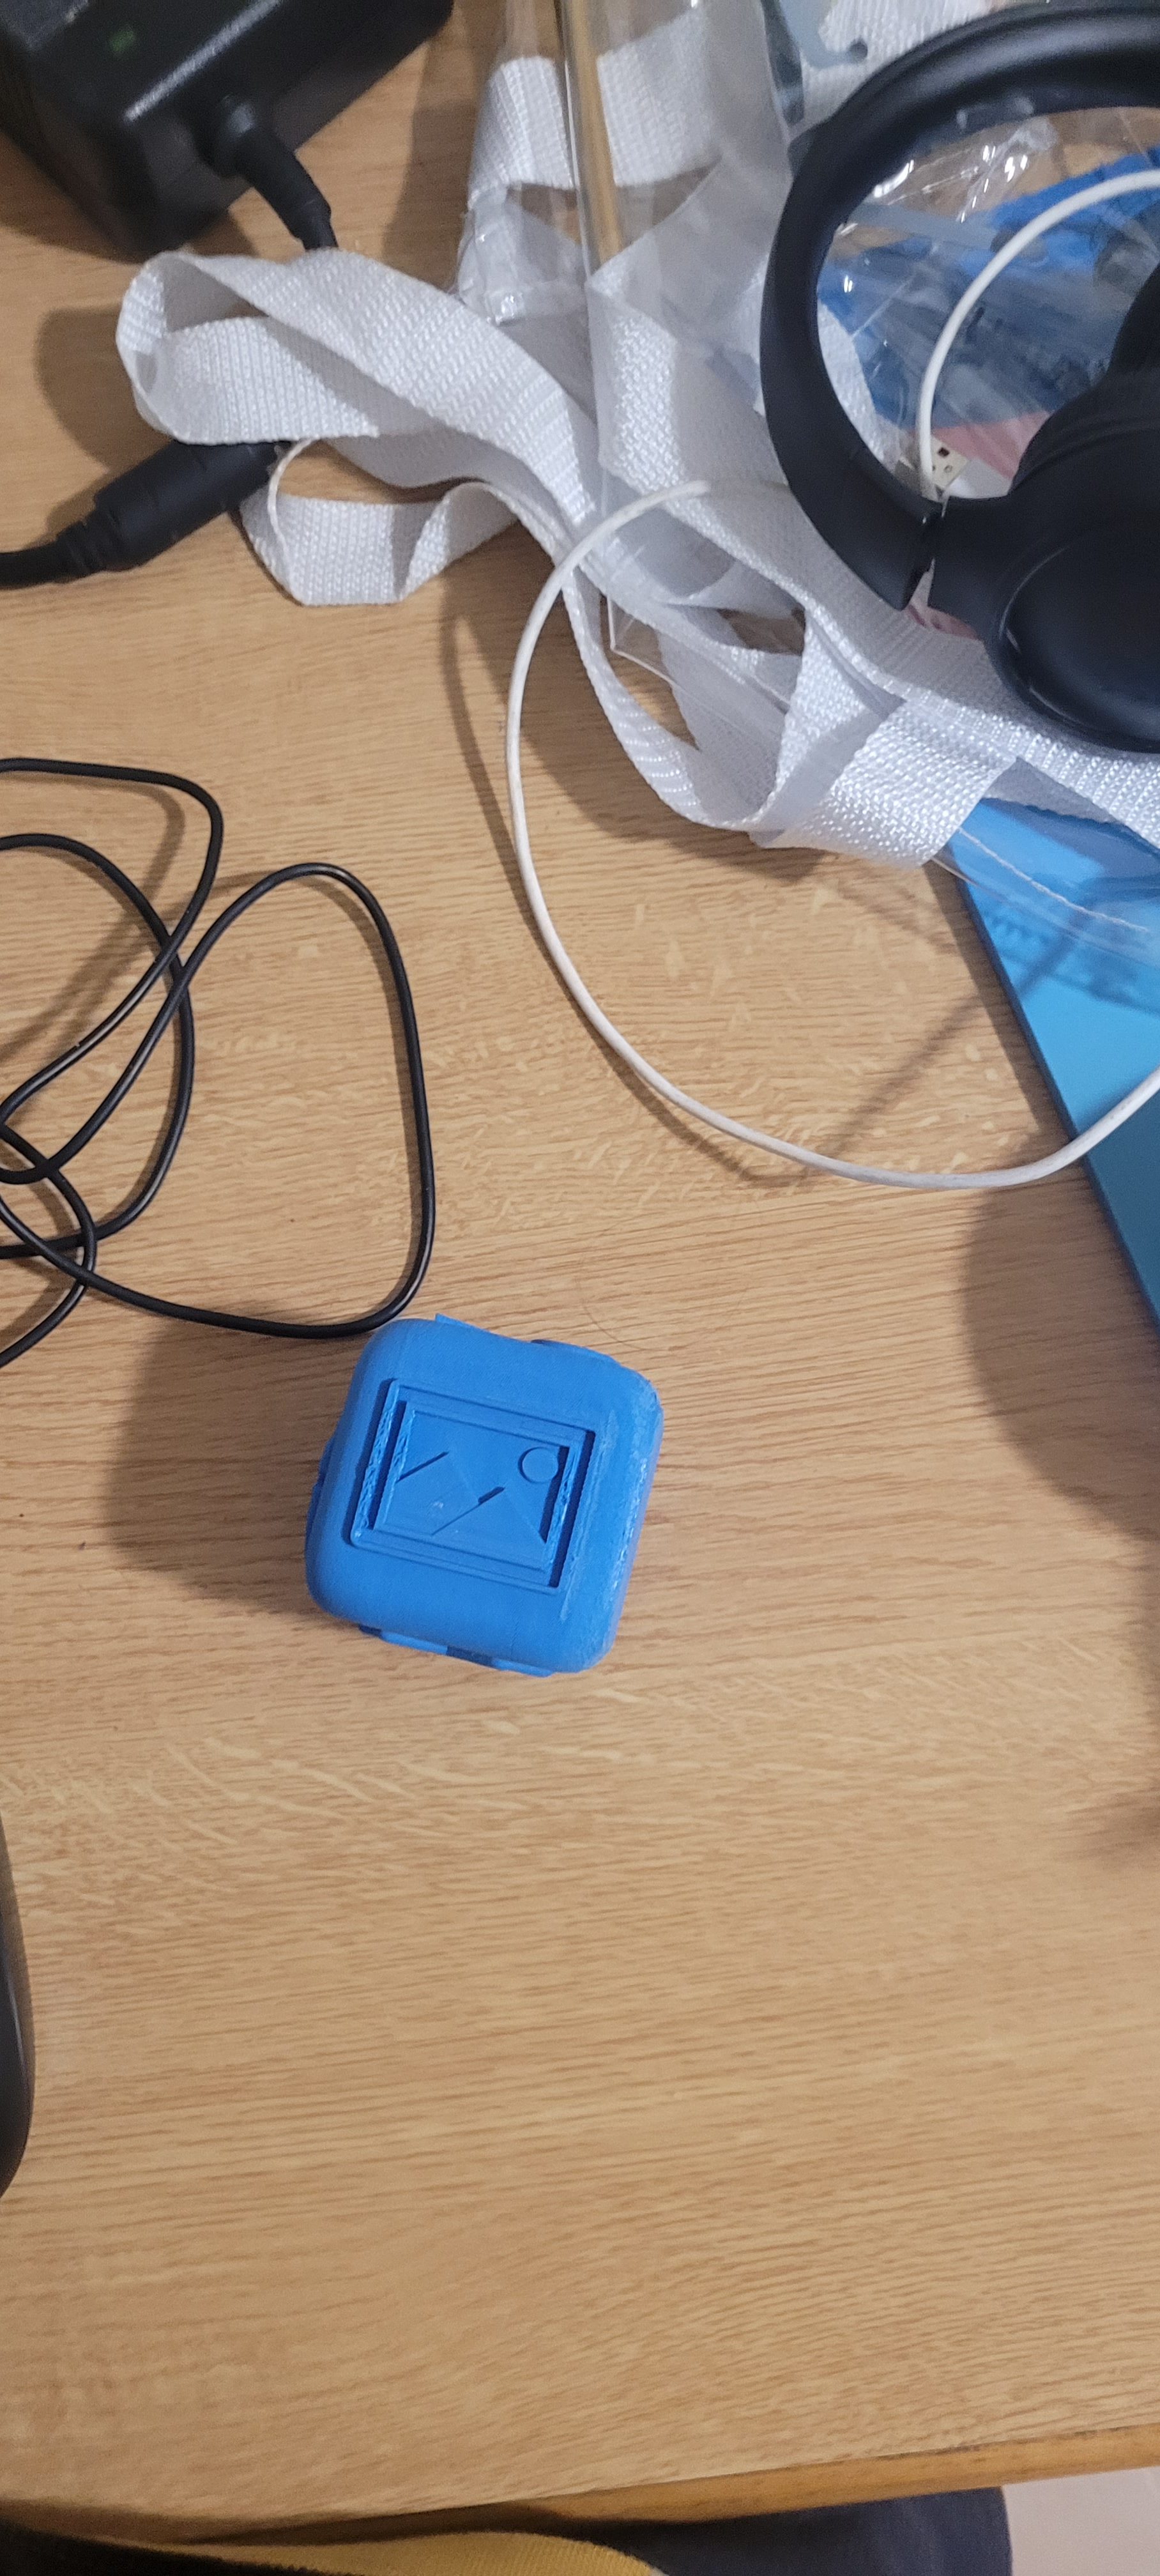Story: (350, 1308, 615, 1626)
